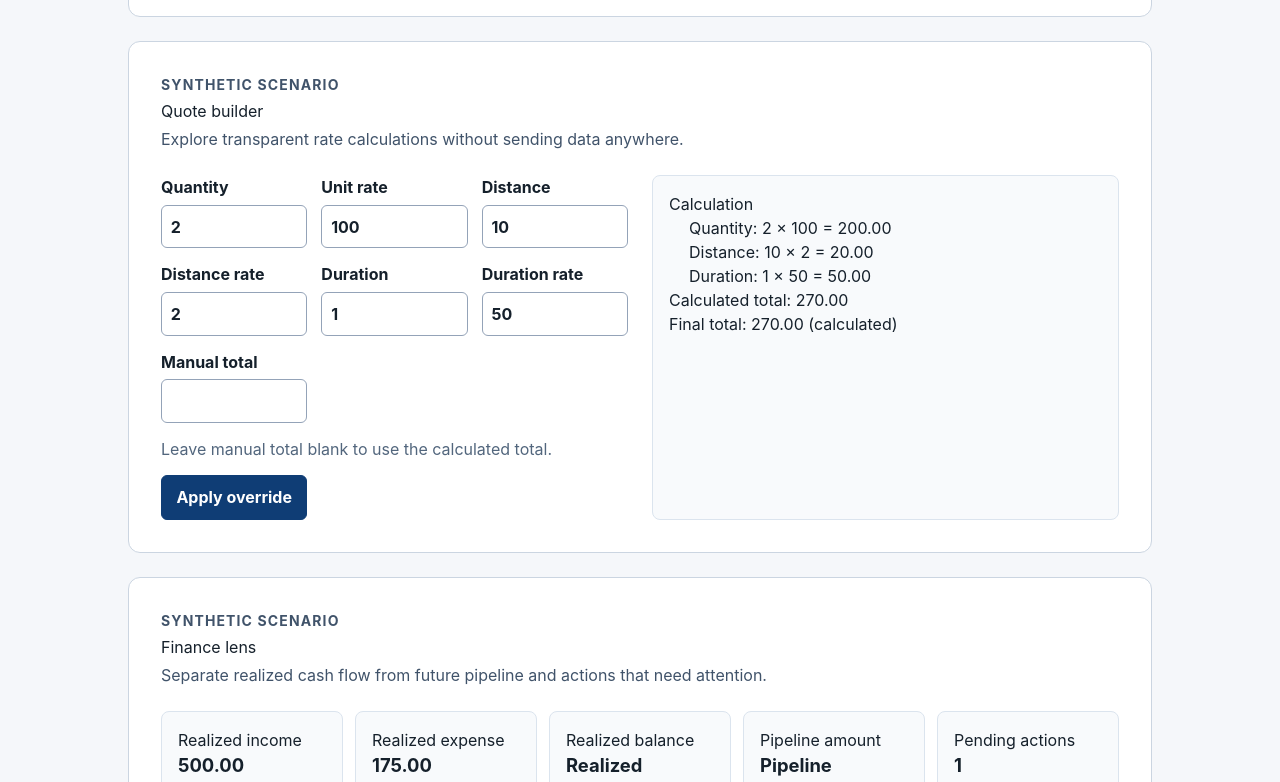
operations workbench interactions › retains the calculated quote total when a manual override is applied
(page scrolled)
In the number field labelled "Manual total": (234, 401) x1=161 y1=379 x2=307 y2=423, type "240"
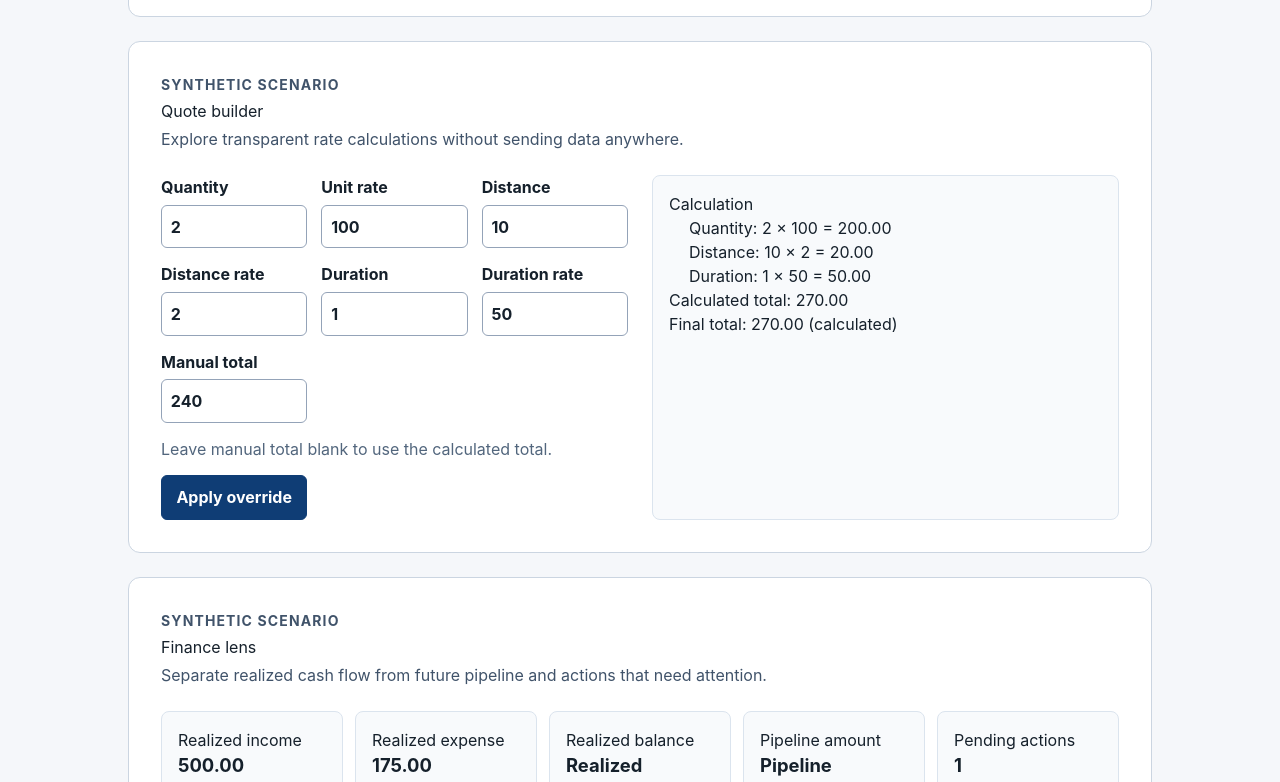
Click the button "Apply override": (234, 497) x1=161 y1=475 x2=307 y2=520
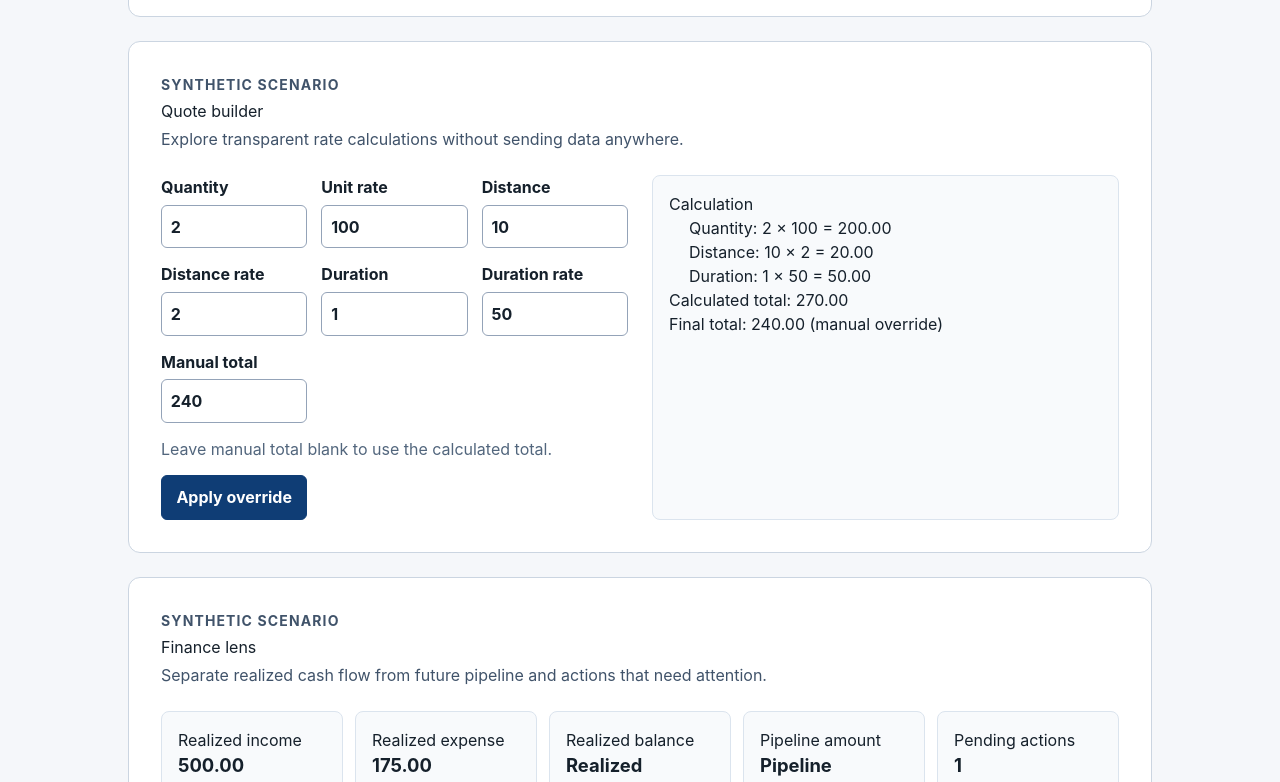
Expected: the text "Calculated total: 270.00" is shown, x1=669 y1=290 x2=848 y2=310
Expected: the text "Final total: 240.00 (manual override)" is shown, x1=669 y1=314 x2=943 y2=334
